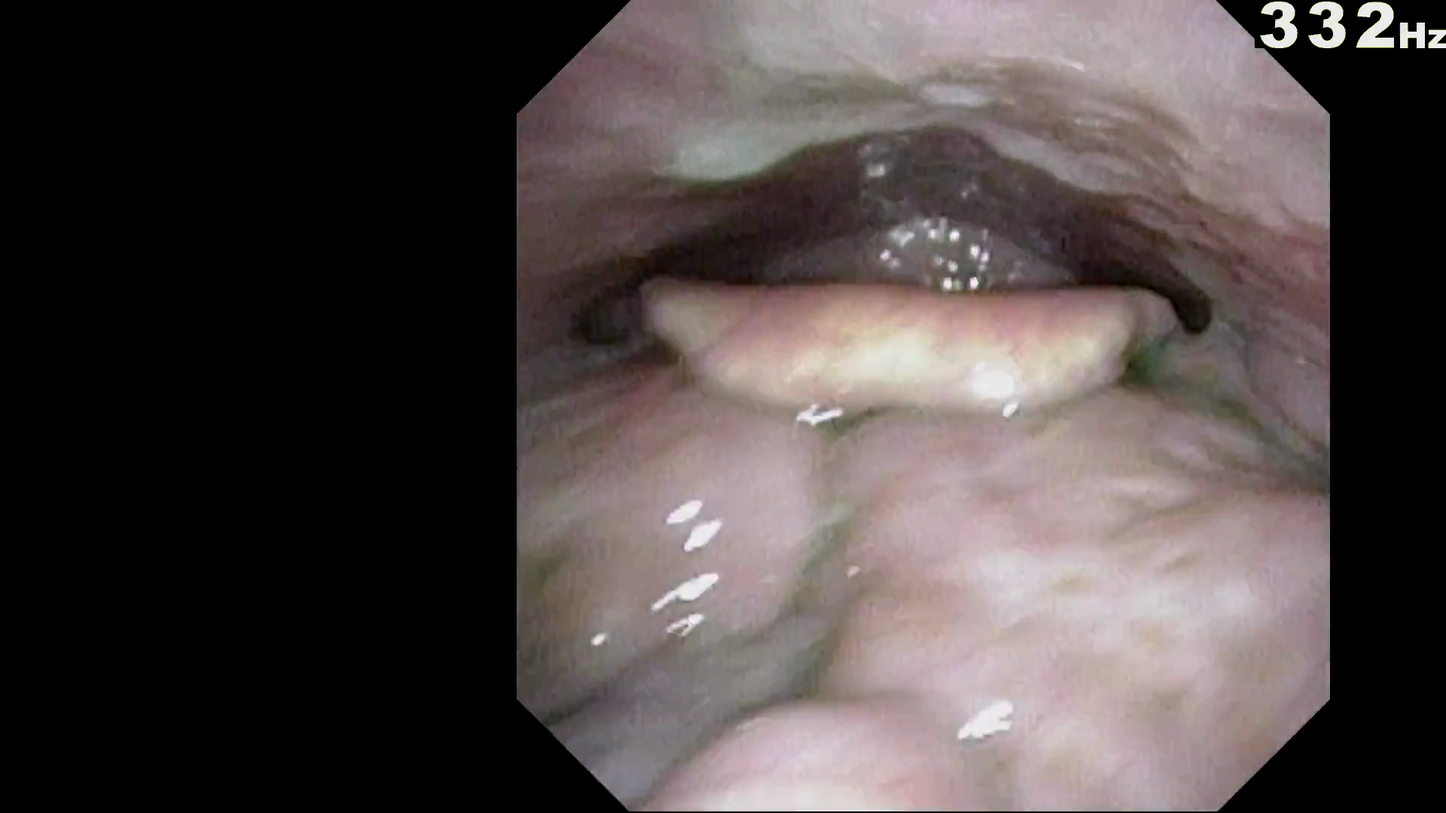epiglottis: (617, 293, 1230, 462)
